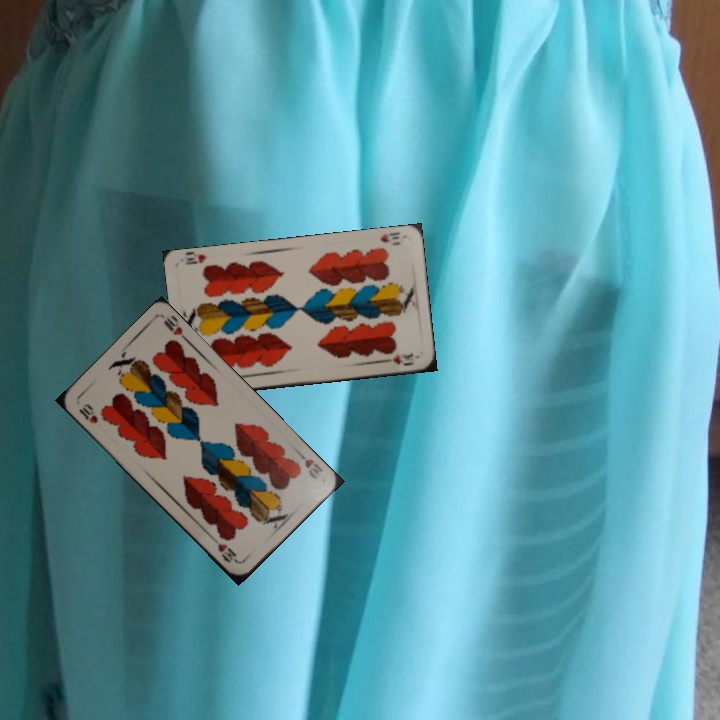H10: (293, 447, 325, 482), (75, 400, 101, 426), (376, 229, 403, 245)
